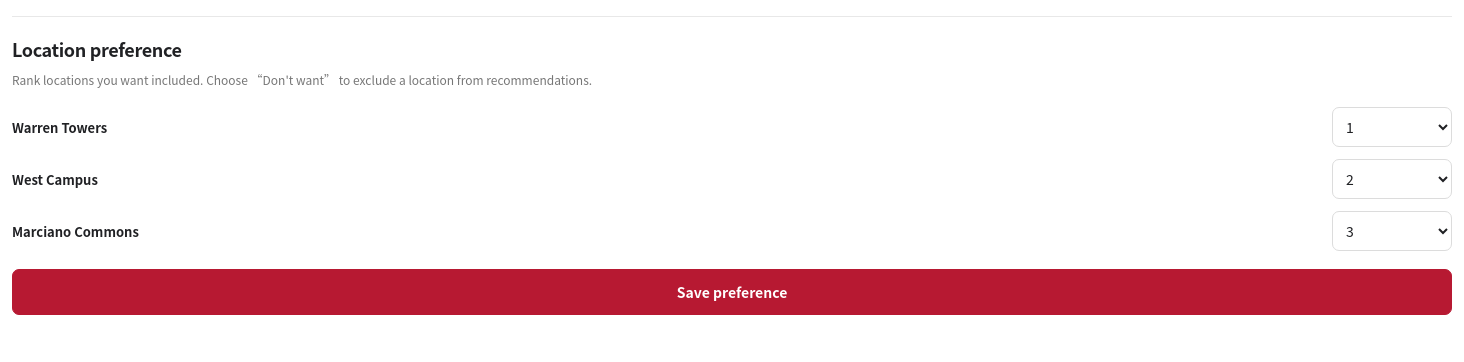
Test: LocationPreference › saves only ranked locations and omits locations marked "Don't want"
Select "Don't want" in the dropdown labelled "West Campus" at (1392, 179), box left=1332, top=159, right=1452, bottom=199
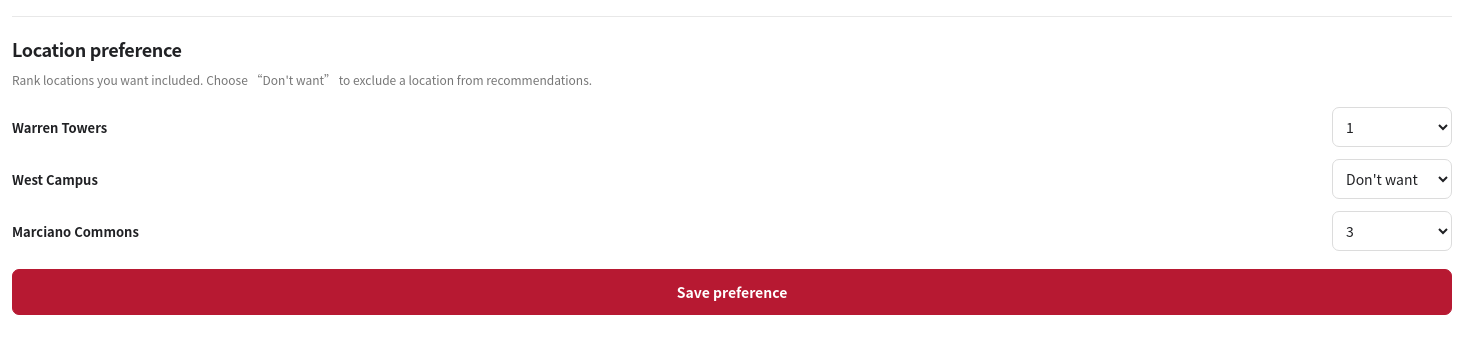
Submit the form, box left=12, top=107, right=1452, bottom=315
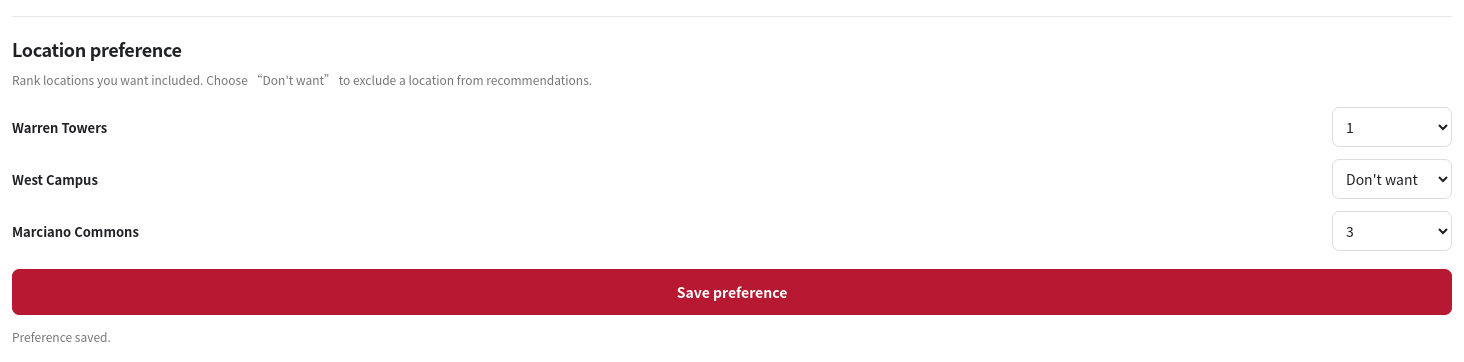
Expected: the text "Preference saved." is shown, left=12, top=328, right=111, bottom=345
